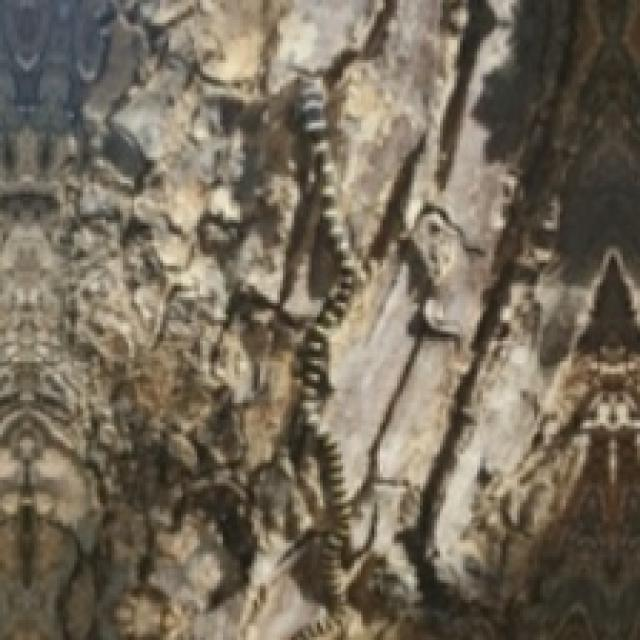paradise tree snake: (234, 74, 354, 637)
